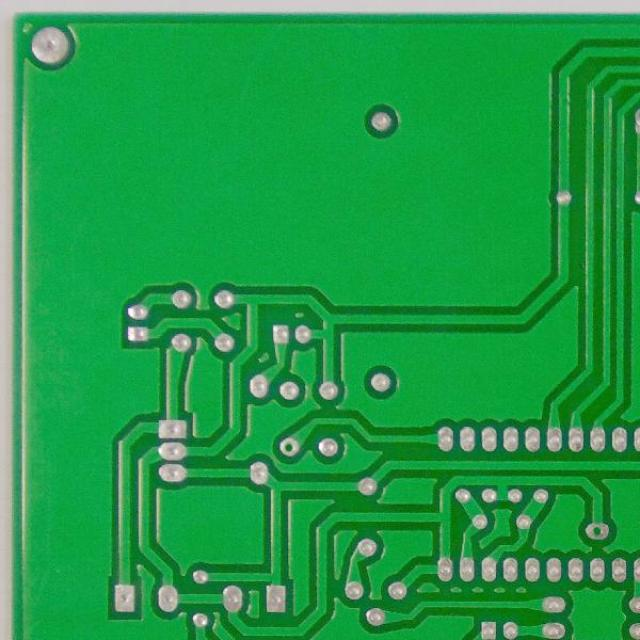Missing_Hole: (583, 518, 610, 543), (276, 435, 302, 460)
